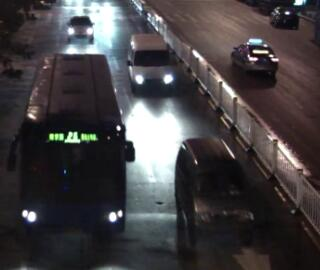bus: (2, 50, 136, 241)
car: (172, 134, 260, 242), (125, 29, 177, 99), (229, 37, 282, 83), (266, 1, 300, 34), (62, 13, 98, 43)
